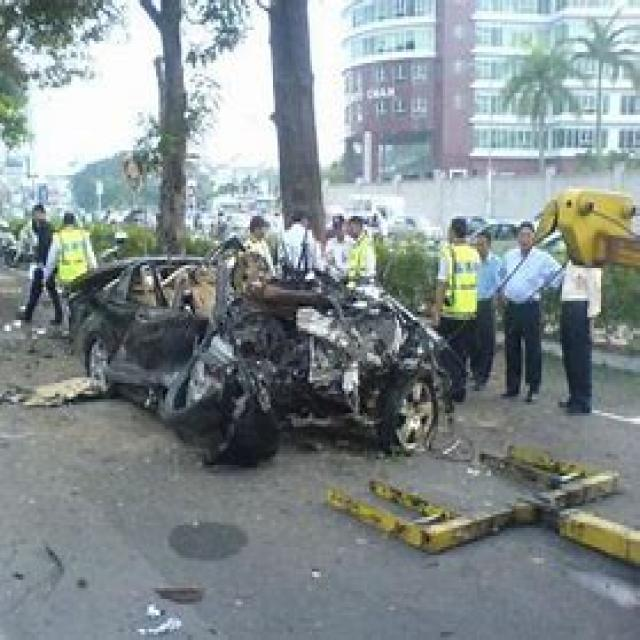Accident: (129, 181, 560, 514)
